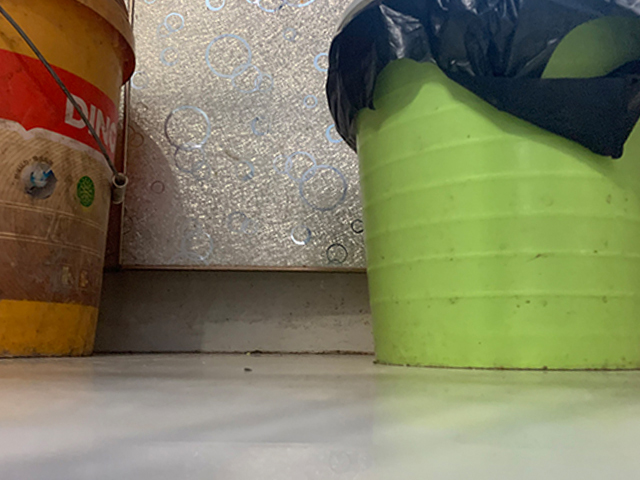cabinet: (125, 1, 371, 355)
trashcan: (327, 1, 640, 371)
